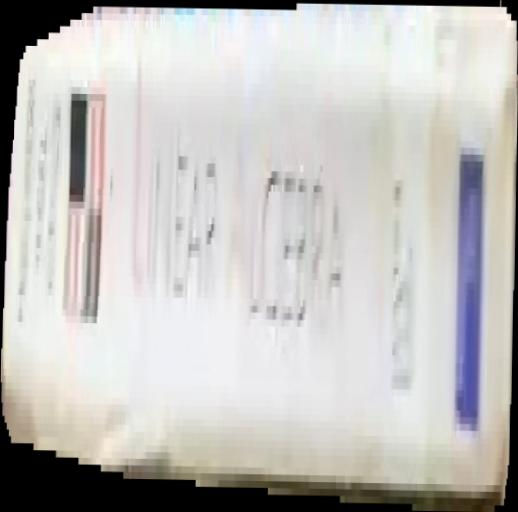flat: (1, 1, 518, 512)
